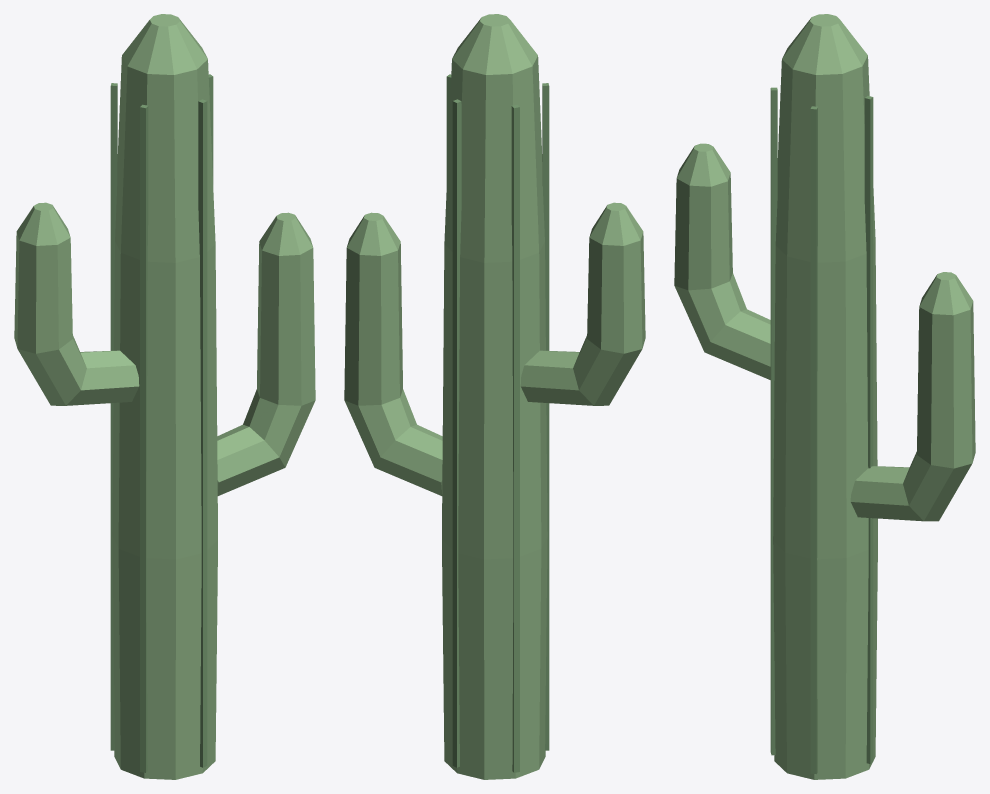
Rendered from SM_Cactus_Saguaro_A.glb.
3 renders of one model, left to right at view 1: azimuth 30°, elevation 25°; view 2: azimuth 150°, elevation 25°; view 3: azimuth 330°, elevation 25°, orthographic.
Visible parts, largest first — view 1: SM_Cactus_Saguaro_A; view 2: SM_Cactus_Saguaro_A; view 3: SM_Cactus_Saguaro_A.
Boxes of the visible parts, x1,y1,x2,y2 form: SM_Cactus_Saguaro_A: (14, 14, 315, 779); SM_Cactus_Saguaro_A: (344, 14, 645, 779); SM_Cactus_Saguaro_A: (674, 14, 975, 779).
Bounding box in the file's own units: 1.34 × 3.2 × 0.4119.
